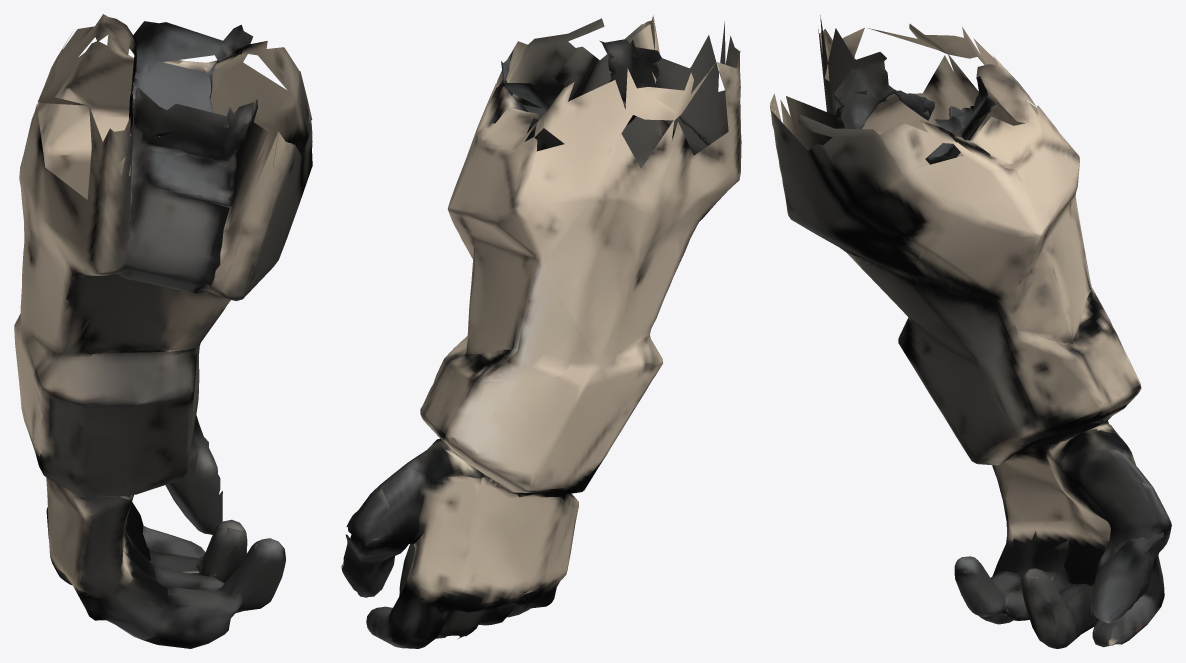
Rendered from wanzer_local_arm_left_001_lower.glb.
3 renders of one model, left to right at view 1: azimuth 30°, elevation 25°; view 2: azimuth 150°, elevation 25°; view 3: azimuth 270°, elevation 25°, orthographic. The views are drawn at different scales.
Visible parts, largest first — view 1: P_arm_left_lower; view 2: P_arm_left_lower; view 3: P_arm_left_lower.
Boxes of the visible parts, box(x1,y1,x2,y2) form: P_arm_left_lower: box(14, 14, 312, 648); P_arm_left_lower: box(341, 15, 741, 648); P_arm_left_lower: box(770, 15, 1171, 648).
Bounding box in the file's own units: 0.3305 × 0.7133 × 0.4795.
2 materials, 2 textured.
